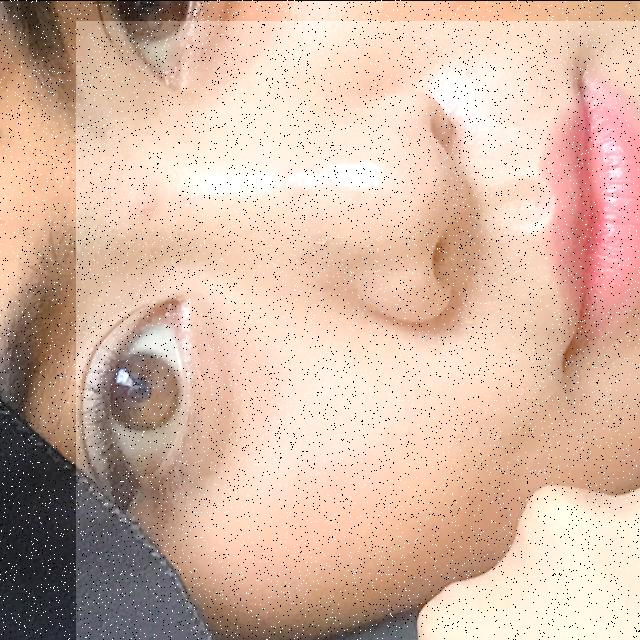telpon: (76, 20, 640, 640)
